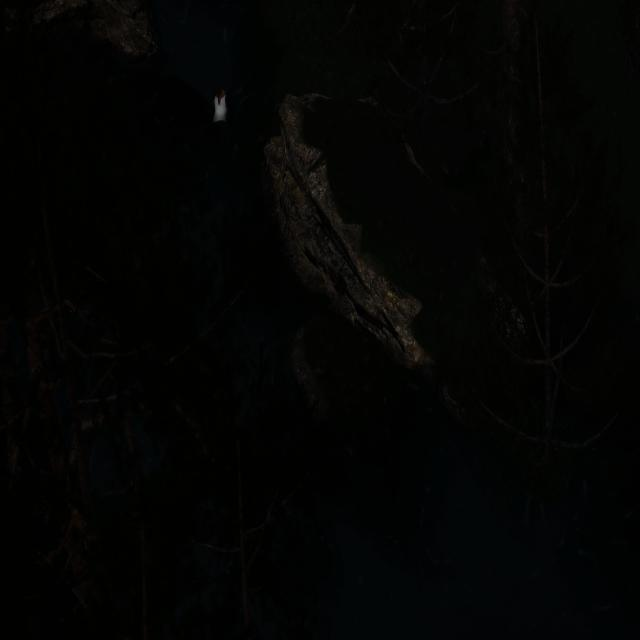Human: (192, 79, 240, 169)
